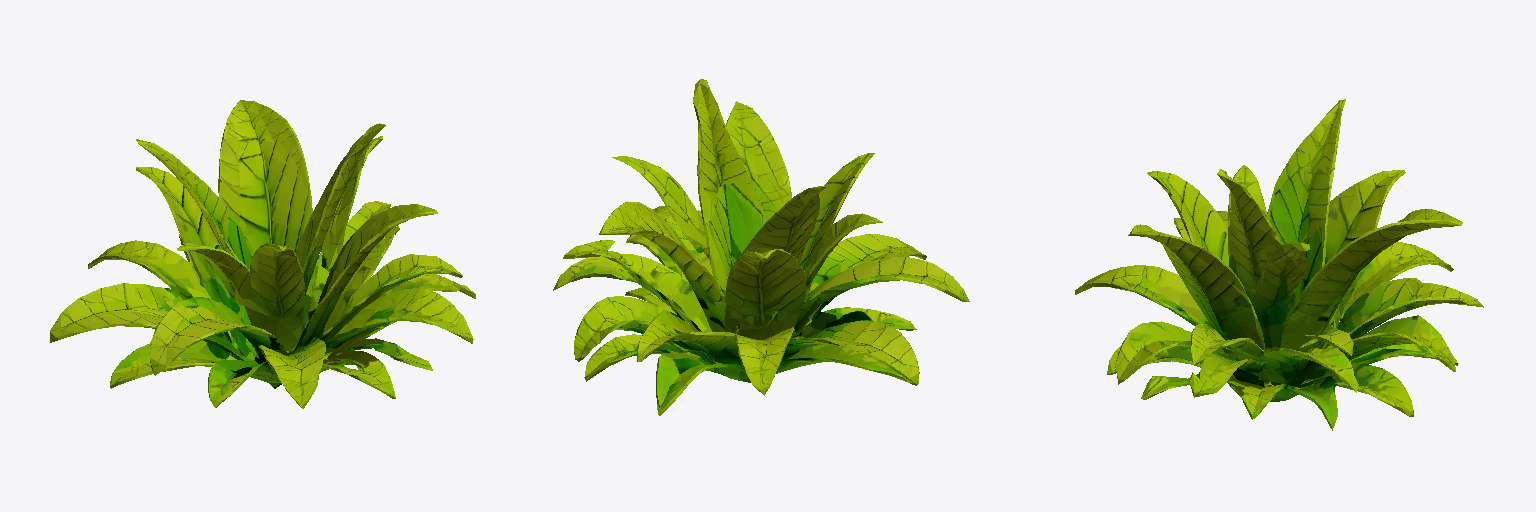
The picture shows the model from 3 angles: view 1: azimuth 30°, elevation 25°; view 2: azimuth 150°, elevation 25°; view 3: azimuth 270°, elevation 25°; orthographic projection.
Parts seen in each view (by area): view 1: 3_1234_50_5.0_384_8000; view 2: 3_1234_50_5.0_384_8000; view 3: 3_1234_50_5.0_384_8000.
Boxes of the visible parts, x1=… form: 3_1234_50_5.0_384_8000: x1=50, y1=100, x2=475, y2=408; 3_1234_50_5.0_384_8000: x1=553, y1=79, x2=969, y2=415; 3_1234_50_5.0_384_8000: x1=1075, y1=99, x2=1483, y2=430.
Size of the model in its own units: 1.99 by 1.41 by 1.99.
Materials: 1 (1 with a texture image).